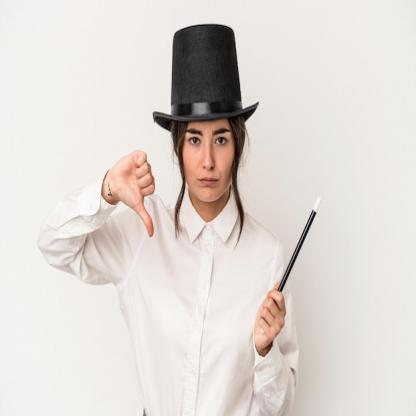thumb_down: (114, 144, 161, 240)
